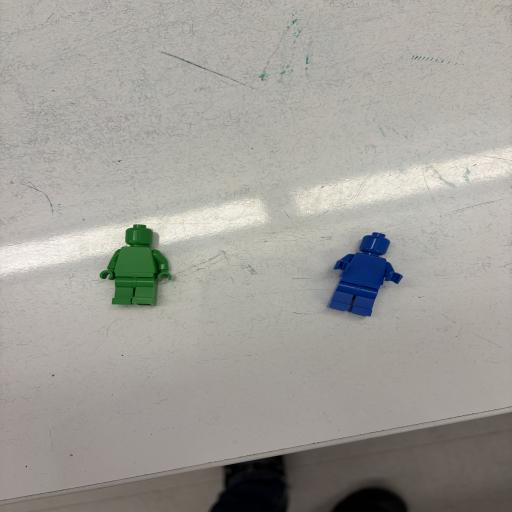Blue-Lego: (328, 232, 402, 316)
Green-Lego: (100, 224, 172, 305)
